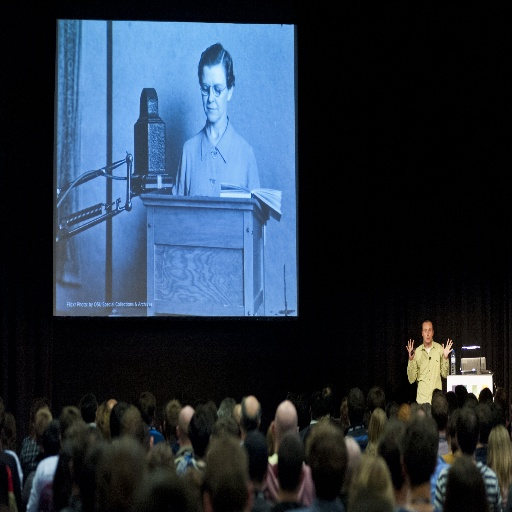hand: (441, 335, 454, 360), (404, 336, 415, 362), (158, 417, 167, 440)
